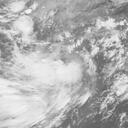cyclone: (20, 44, 85, 115)
